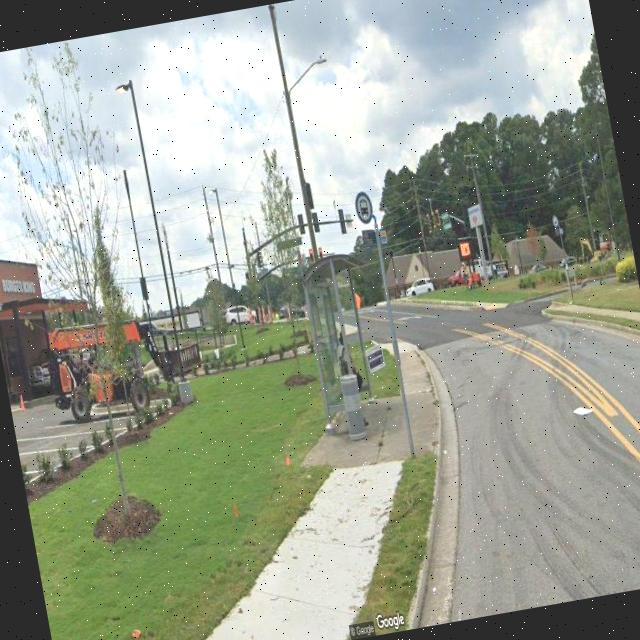shelter: (295, 252, 385, 436)
trash_can: (337, 370, 369, 440)
